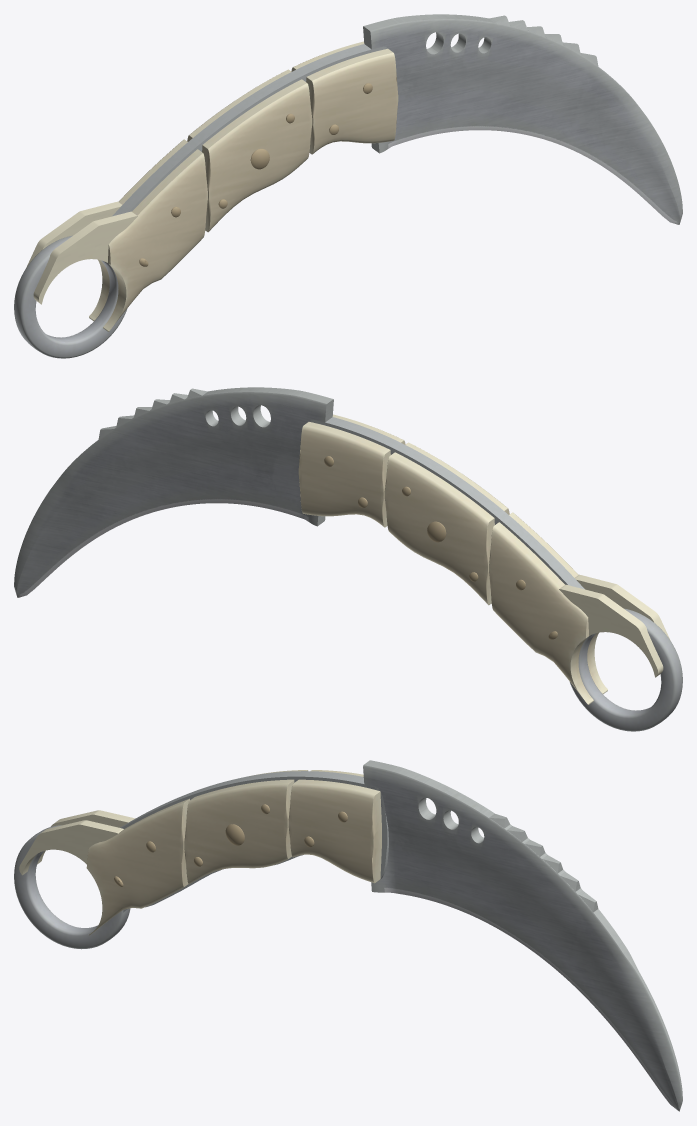
File: talon.glb
3 renders of one model, top to bottom at view 1: azimuth 30°, elevation 25°; view 2: azimuth 150°, elevation 25°; view 3: azimuth 330°, elevation 25°, orthographic.
Parts seen in each view (by area): view 1: body; view 2: body; view 3: body.
Boxes of the visible parts, left/top/right/bottom form: body: left=14, top=14, right=682, bottom=358; body: left=14, top=387, right=682, bottom=731; body: left=14, top=760, right=682, bottom=1111.
Bounding box in the file's own units: 0.1919 × 0.0754 × 0.0141.
5 materials, 5 textured.
